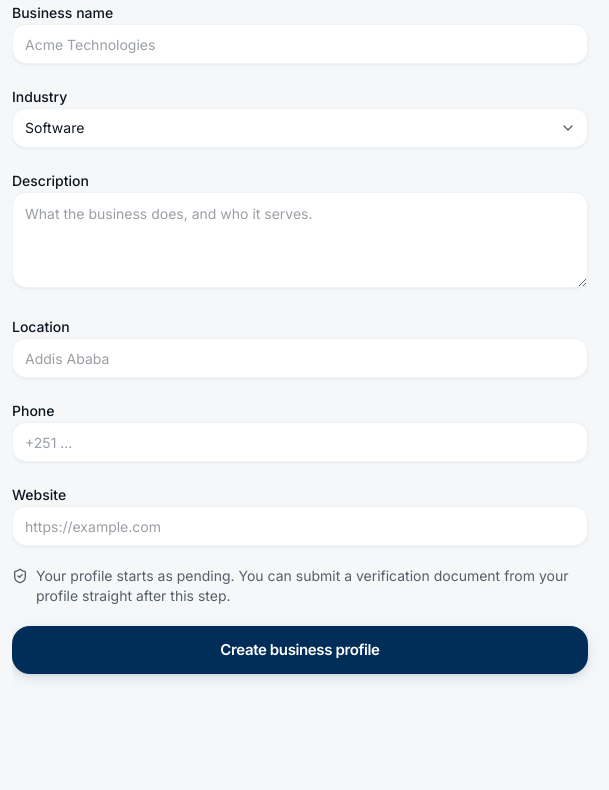
business onboarding › reports a server field error without navigating away
The width and height of the screenshot is (609, 790).
Type "Acme" into the field labelled "Business name".
click(300, 44); type("Acme")  # box [12,24,588,64]
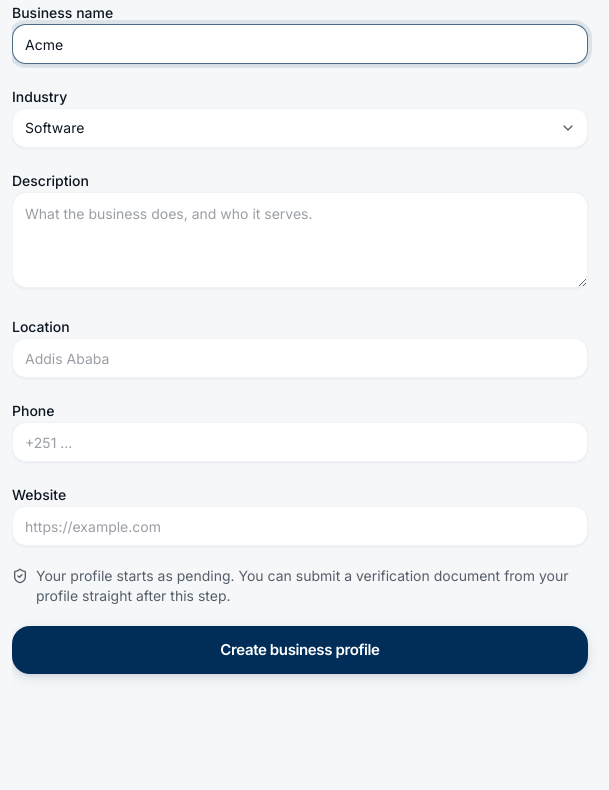
Click the button "Create business profile".
click(300, 650)  # box [12,626,588,674]
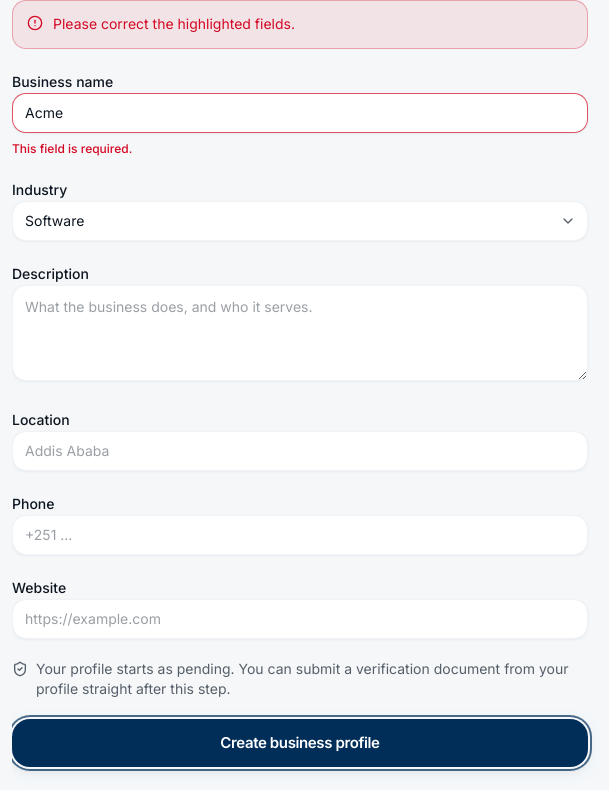
expect the text "This field is required." is shown: met, box [12,141,132,156]
